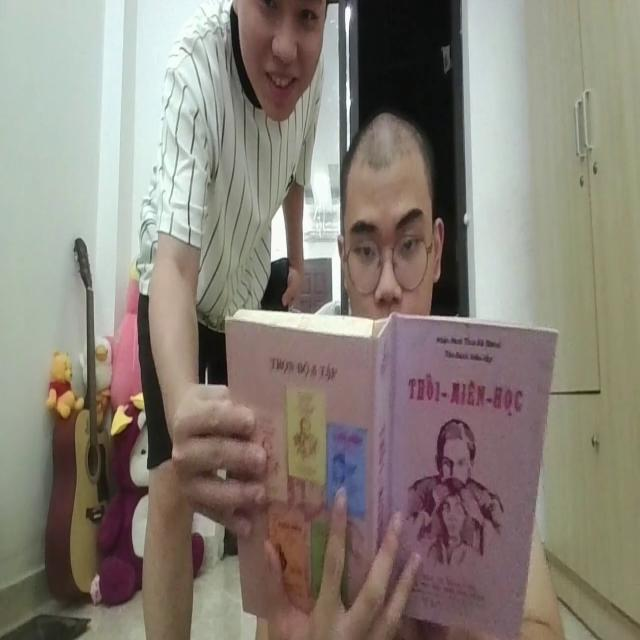book: (216, 278, 562, 636)
extra_person: (118, 0, 328, 640)
student: (303, 123, 476, 351)
